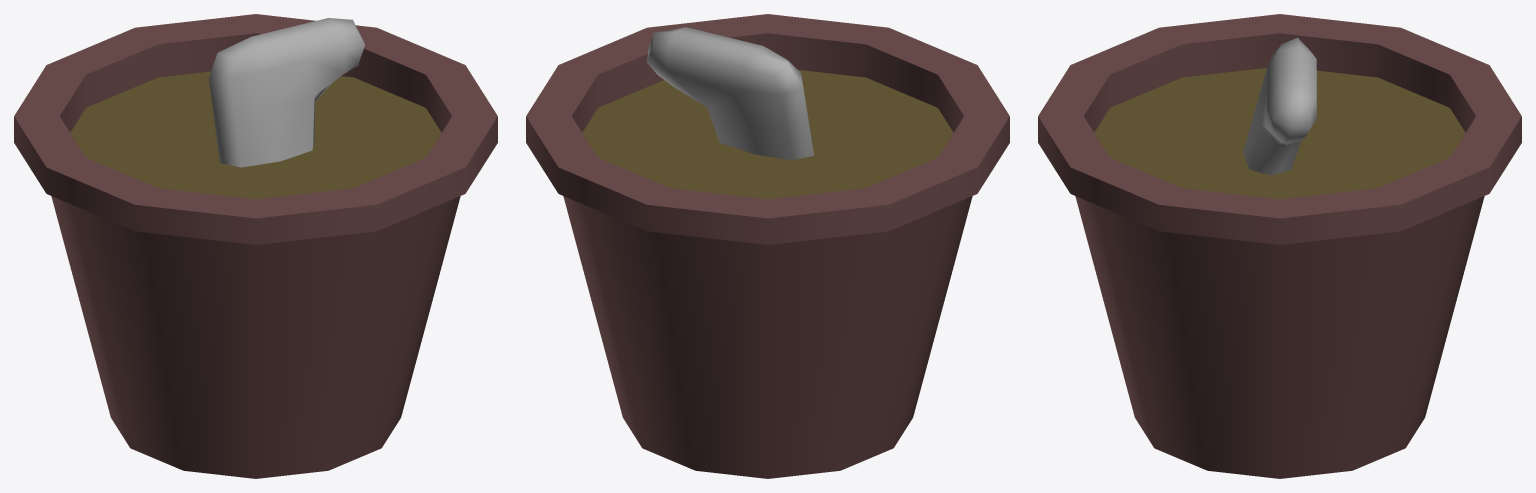
File: SM_SockPot.fbx
3 views of the same model, side by side, from view 1: azimuth 30°, elevation 25°; view 2: azimuth 150°, elevation 25°; view 3: azimuth 270°, elevation 25° (orthographic).
Parts seen in each view (by area): view 1: SM_SockPot; view 2: SM_SockPot; view 3: SM_SockPot.
Part boxes in pixels (bbox=[...]): SM_SockPot: bbox=[14, 14, 497, 478]; SM_SockPot: bbox=[526, 14, 1009, 478]; SM_SockPot: bbox=[1038, 14, 1521, 478].
Size of the model in its own units: 27.09 by 23 by 27.09.
